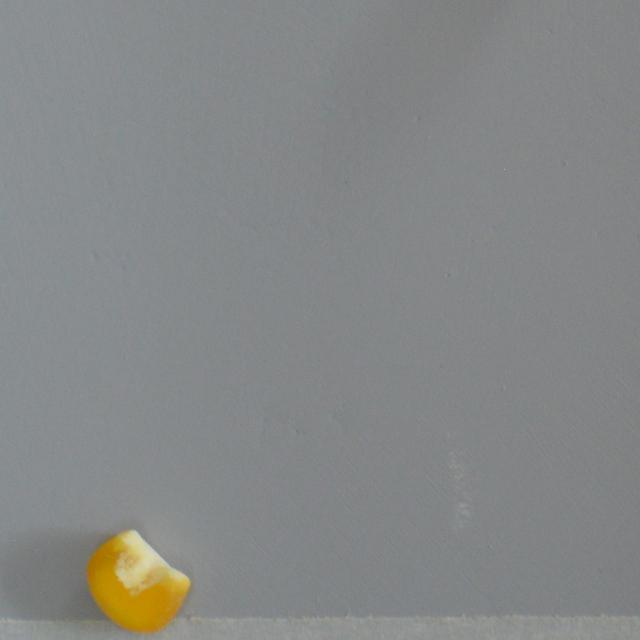no_canjicado: (85, 530, 190, 635)
